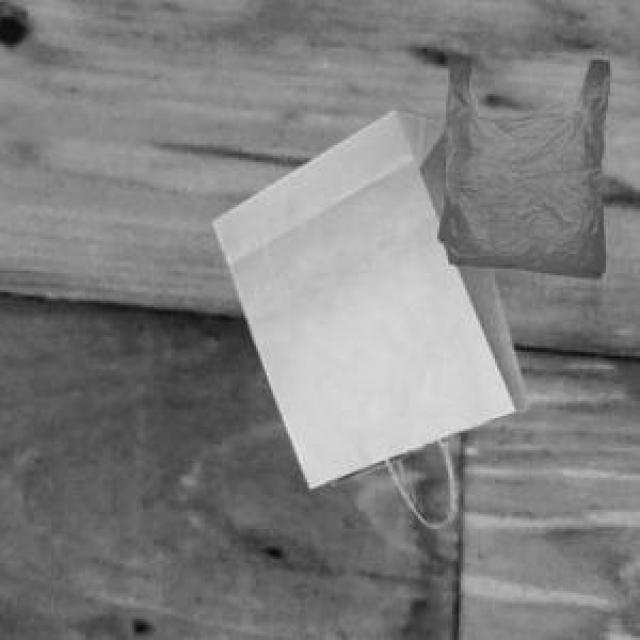paper: (209, 107, 525, 523)
